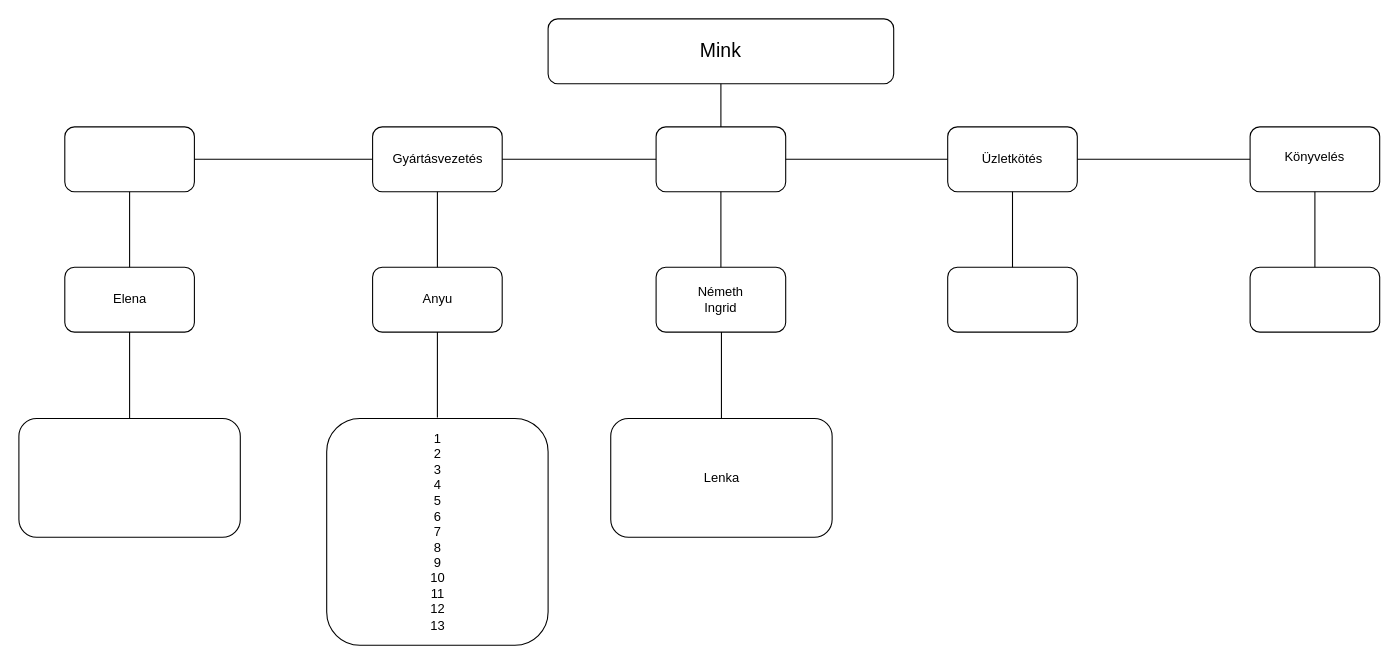
The diagram is 1399 pixels wide and 664 high, and some of its shapes have lost their labels. Here are the shapes that lost their labels. From the top down, the centre of each, then its label:
the point at 129,159: Rendelések Anyagrendelés Szabászat
the point at 720,159: Minőségellenőrzés
the point at 1012,299: Ákos
the point at 1314,299: Benedek Éva
the point at 129,477: Apu Valaki új Attila
